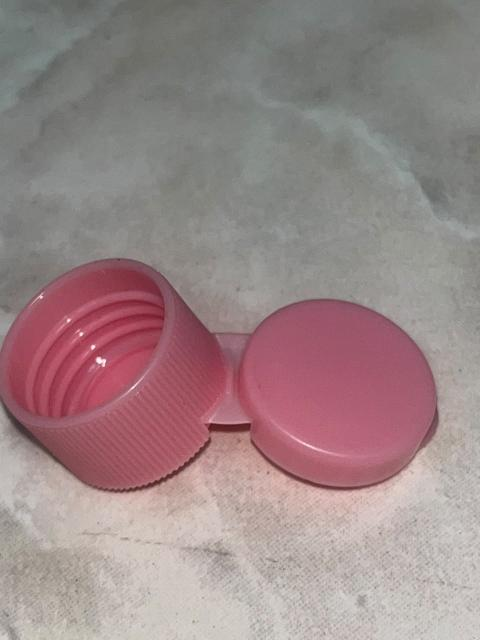HDPE: (0, 217, 480, 538)
